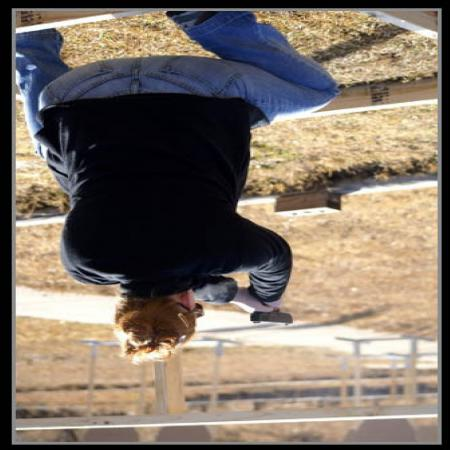Pistol: (245, 286, 296, 326)
